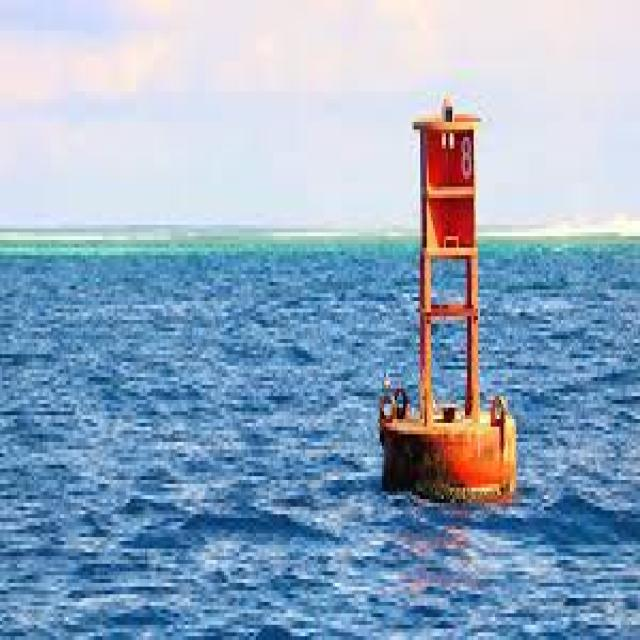2.1 lateral mark -P-: (371, 79, 521, 511)
